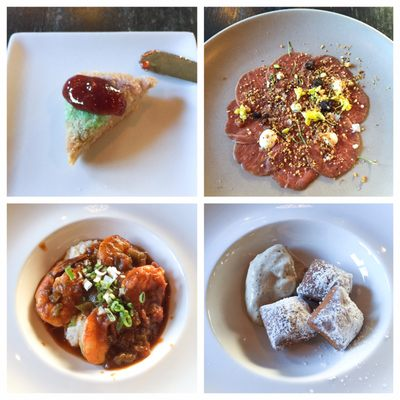sandwich: (139, 49, 197, 83)
sushi: (204, 8, 396, 200), (206, 219, 396, 384), (14, 214, 191, 384)
